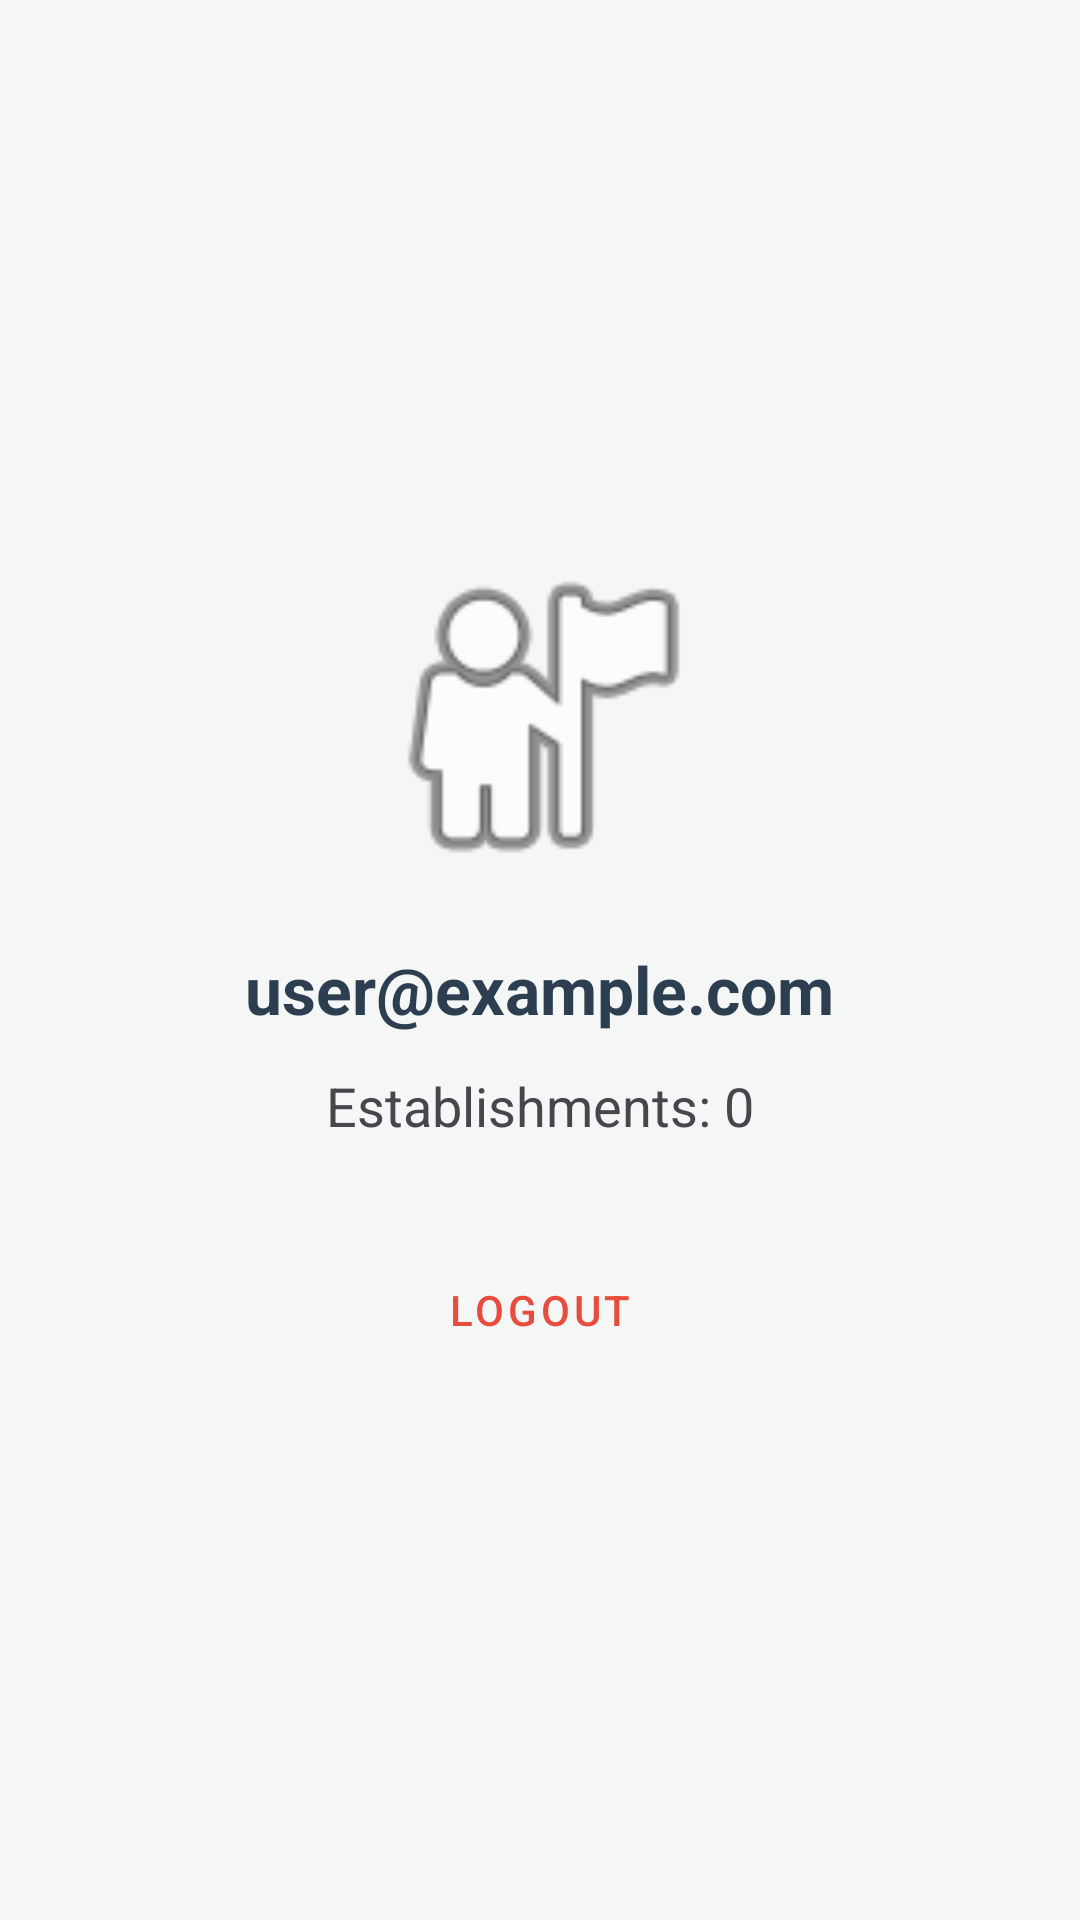

Named icons in this screenshot (1080 × 1920) and their bounding boxes, (x1, y1, x2, y2):
myplaces: (408, 582, 679, 852)
